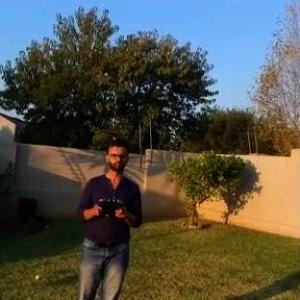follow: (63, 130, 146, 299)
